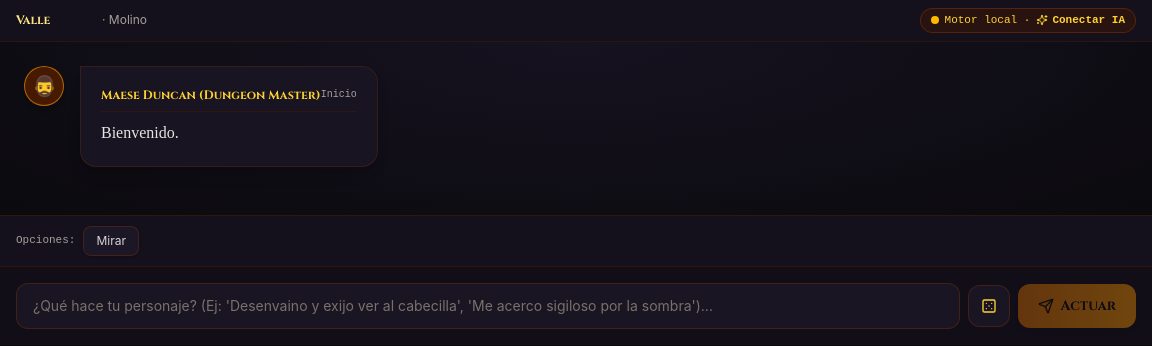
Test: StoryStream › while the box is locked the checks are not offered, but free dice still are
This screenshot has width=1152, height=346.
Click the button named "Tiradas: habilidades con la ficha y bandeja de dados" at (990, 306), box [968, 285, 1010, 327]
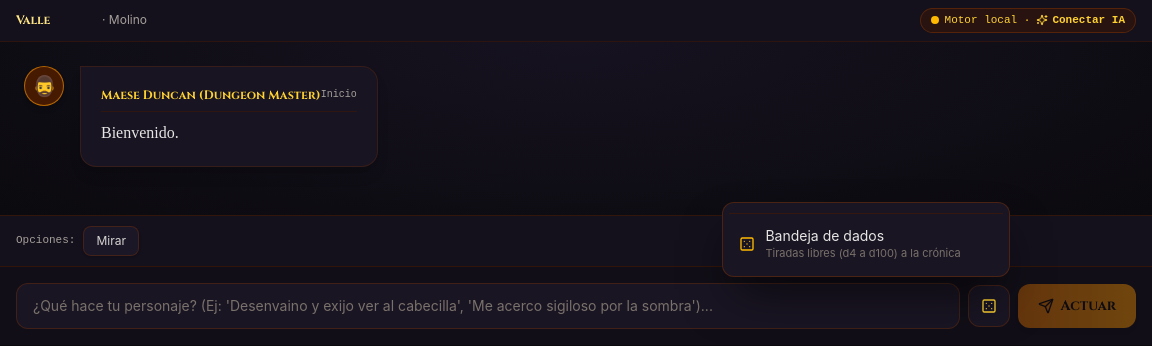
Expected: the menu item "Bandeja de dados Tiradas libres (d4 a d100) a la crónica" is shown, [730, 218, 1004, 270]
